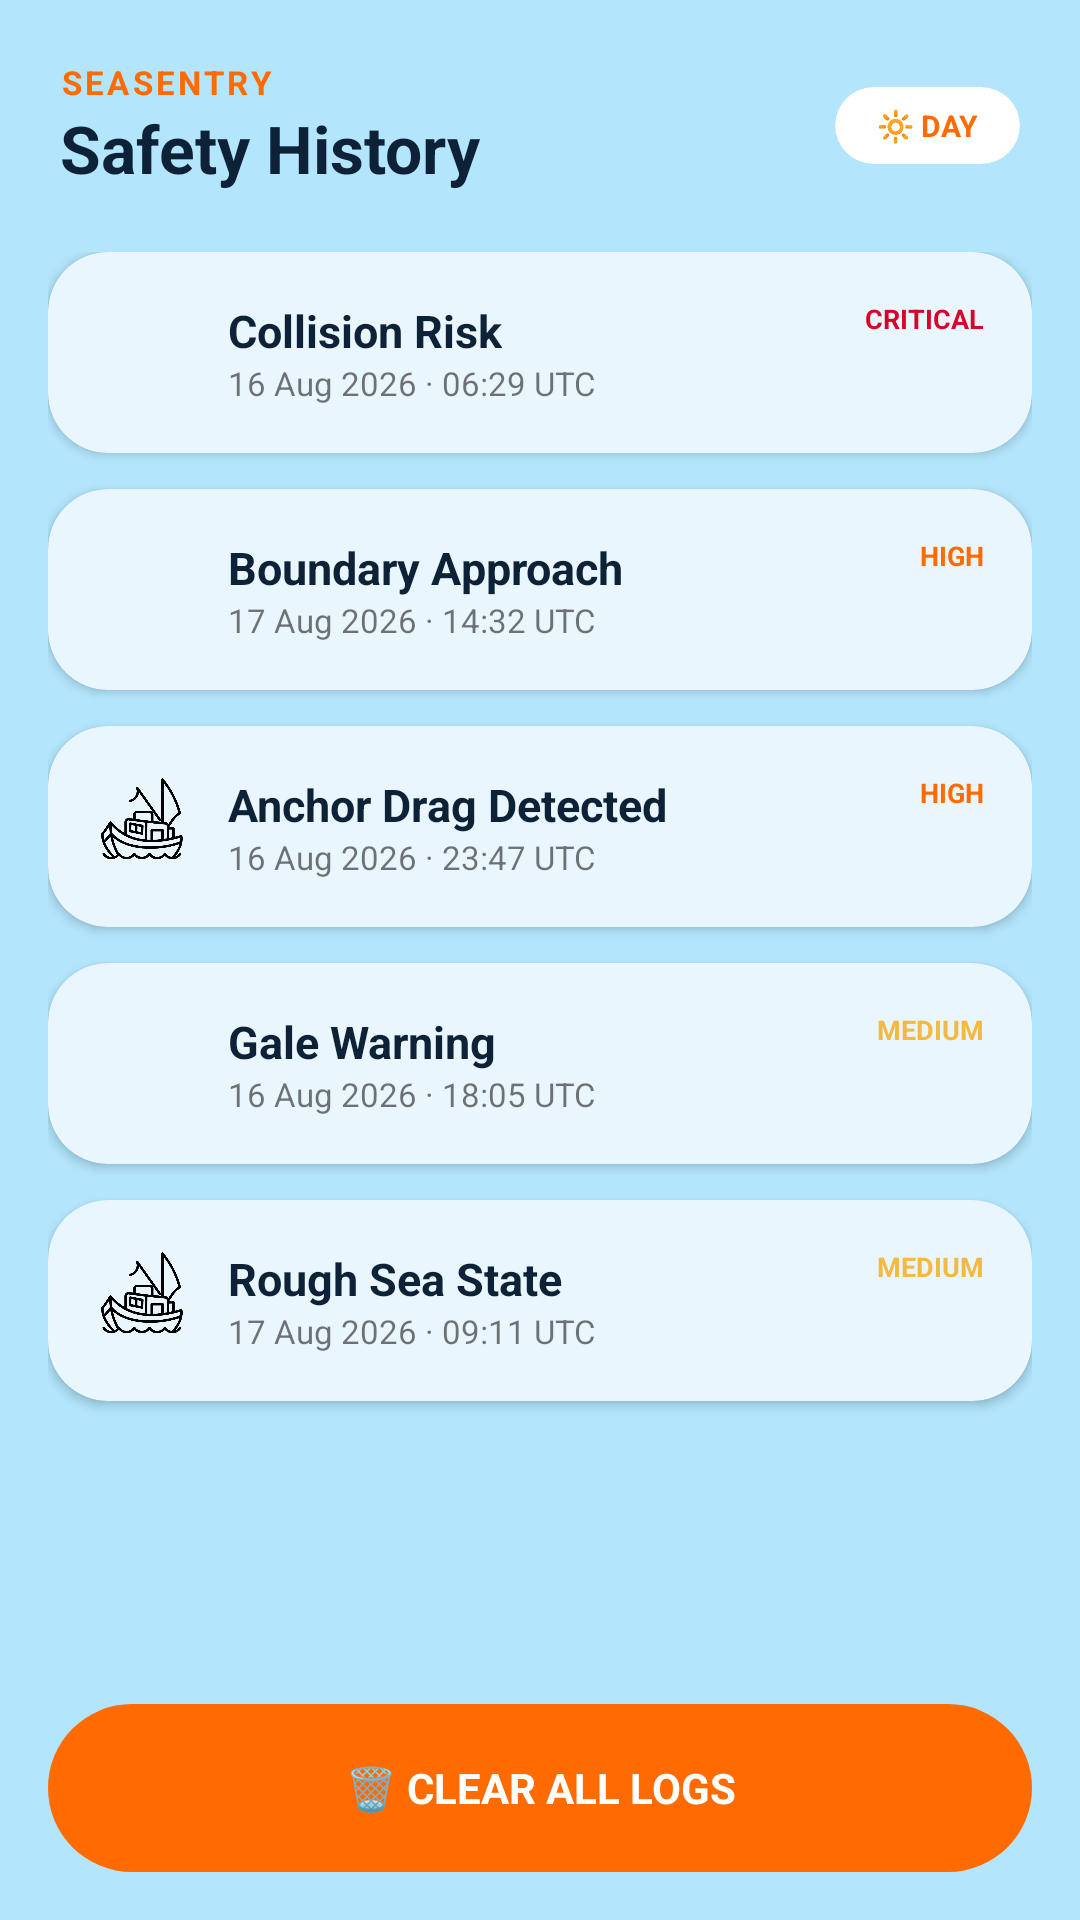

Named icons in this screenshot (1080w x 1920h) and their centers, (x,y):
fishing boat: (142,818), (142,1292)
